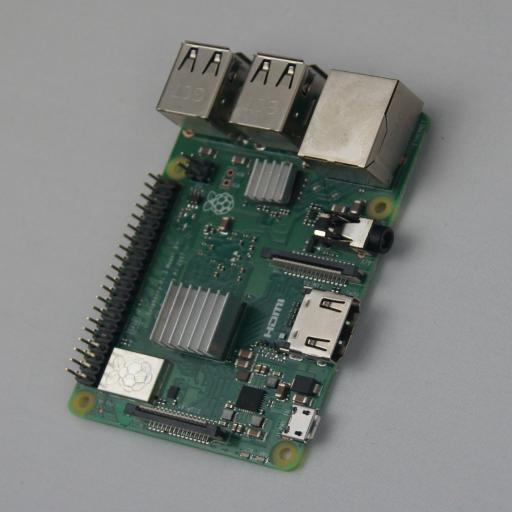Raspberry Pi 3 B-: (67, 42, 444, 471)
